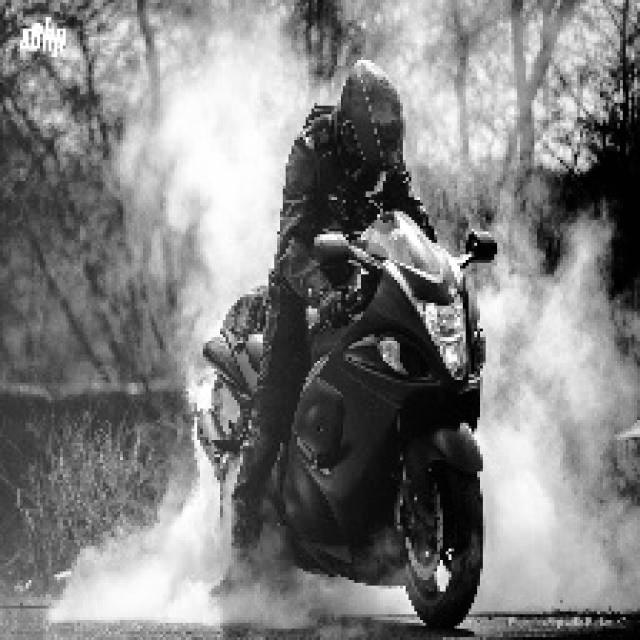Bike: (197, 273, 491, 615)
